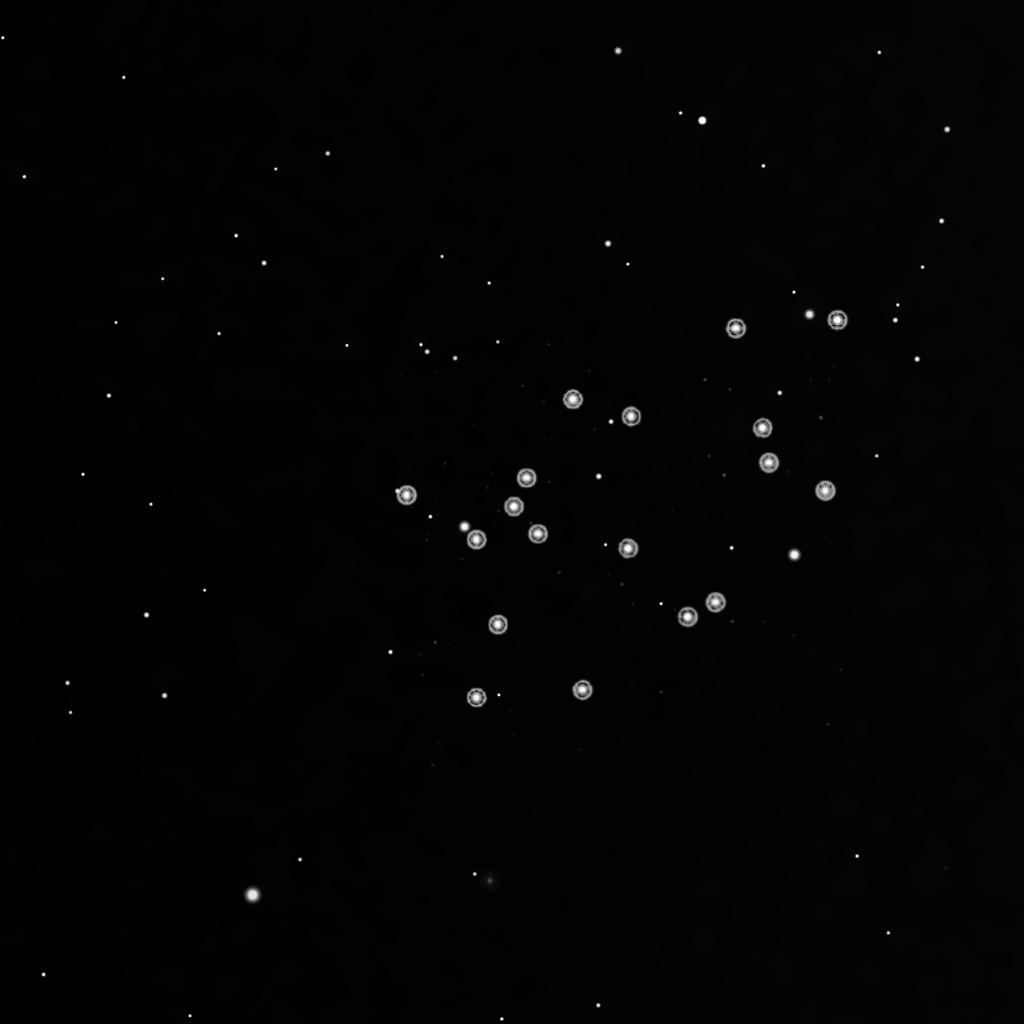canis_major: (461, 387, 648, 558)
